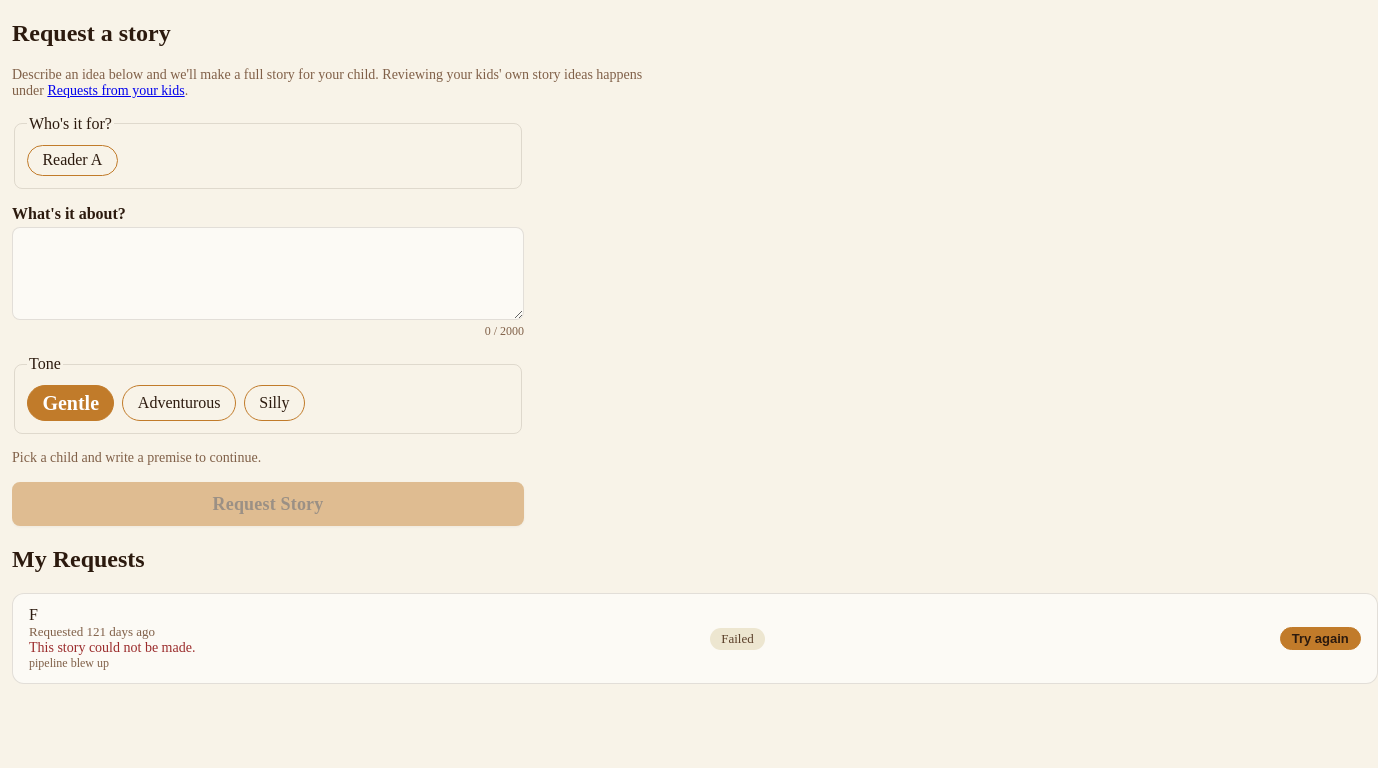
Test: IntakePage › shows a friendly failure cause and Try again prefills the form without submitting
expect the text "This story could not be made." is shown: met, box x1=29 y1=640 x2=195 y2=656
Click the button "Try again": (1320,639) x1=1280 y1=627 x2=1361 y2=650
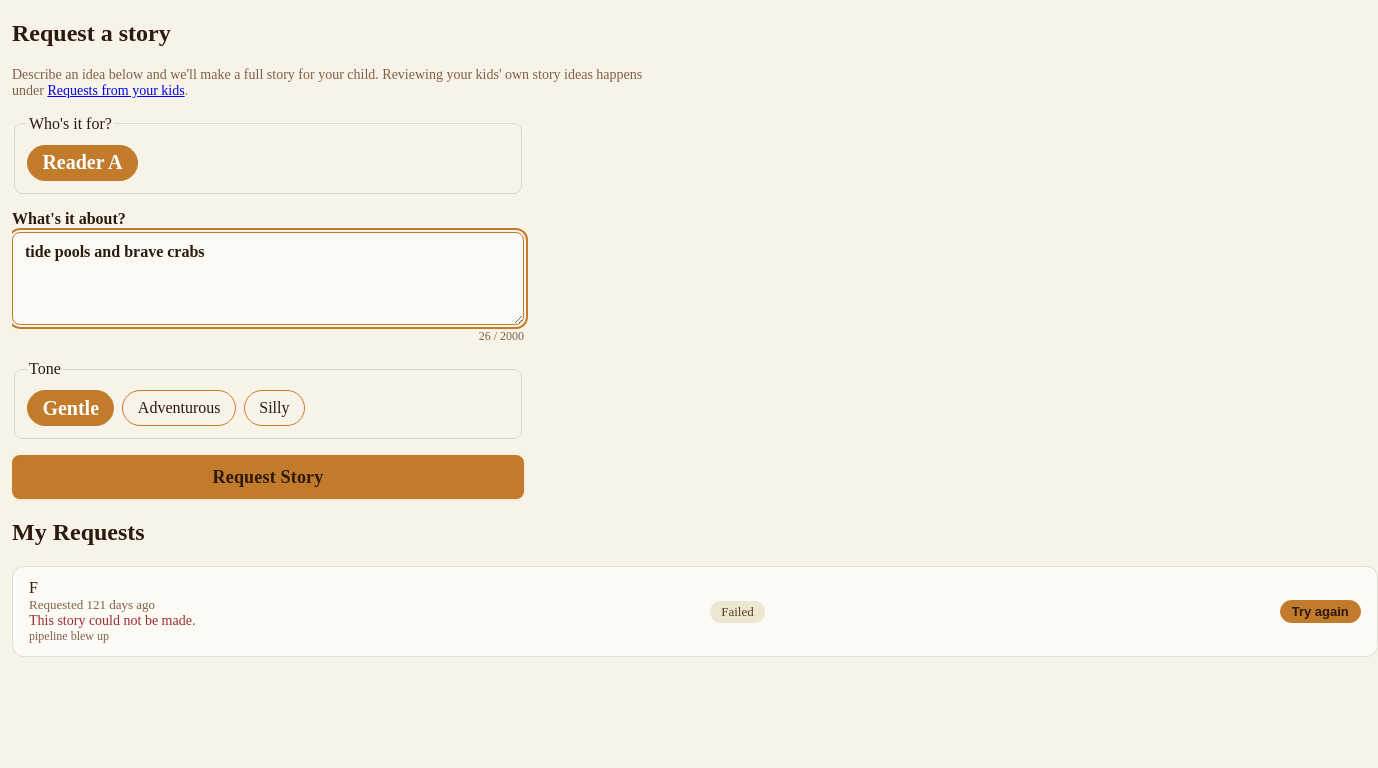
expect the text box labelled "What's it about?" holds "tide pools and brave crabs": met, box x1=12 y1=232 x2=524 y2=325
